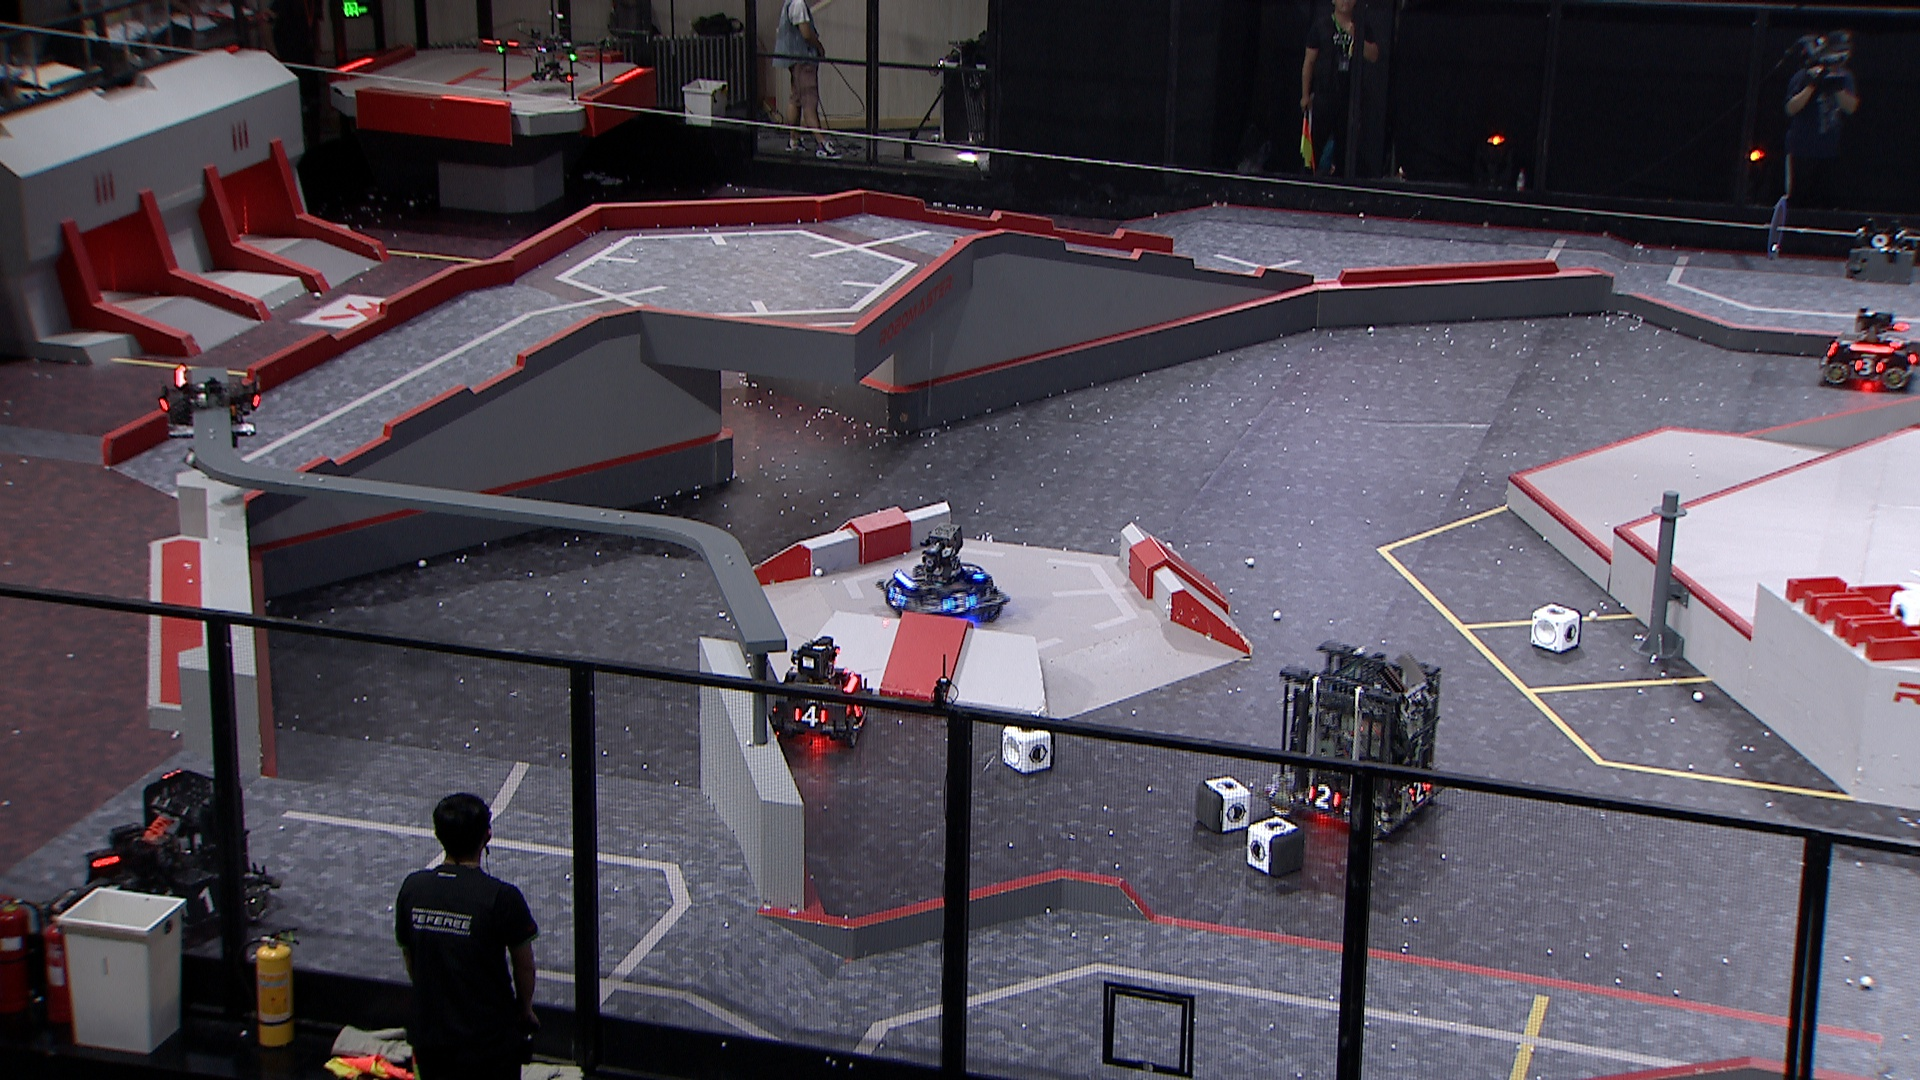armor: (179, 887, 223, 920), (793, 703, 828, 731), (1305, 785, 1342, 811), (944, 589, 977, 615), (1850, 357, 1887, 377), (960, 560, 988, 582), (1406, 781, 1432, 802), (887, 585, 909, 611), (1887, 334, 1908, 348)
car: (40, 766, 277, 967), (1266, 641, 1448, 841), (878, 524, 1011, 624), (765, 636, 870, 750), (1816, 309, 1917, 392)
watcher: (157, 363, 258, 475)
